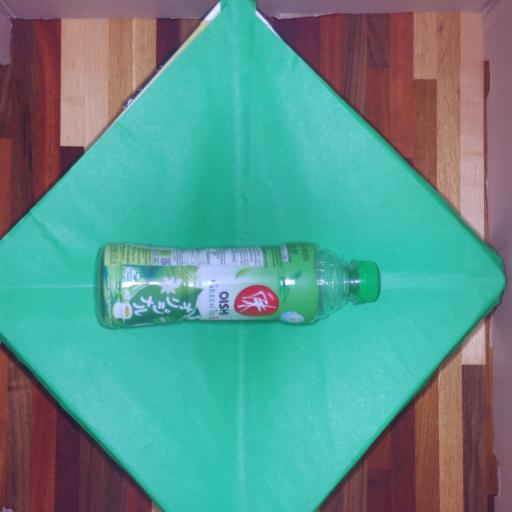bottle: (74, 225, 400, 339)
